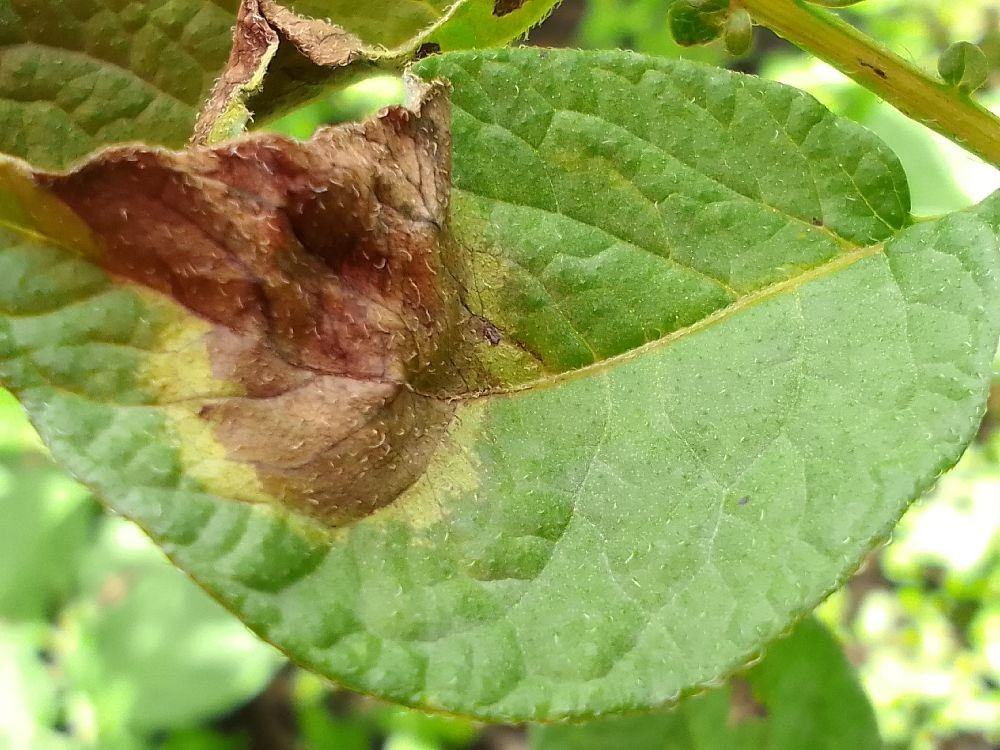late_blight: (0, 0, 631, 554), (659, 0, 1000, 194), (208, 638, 322, 750)
